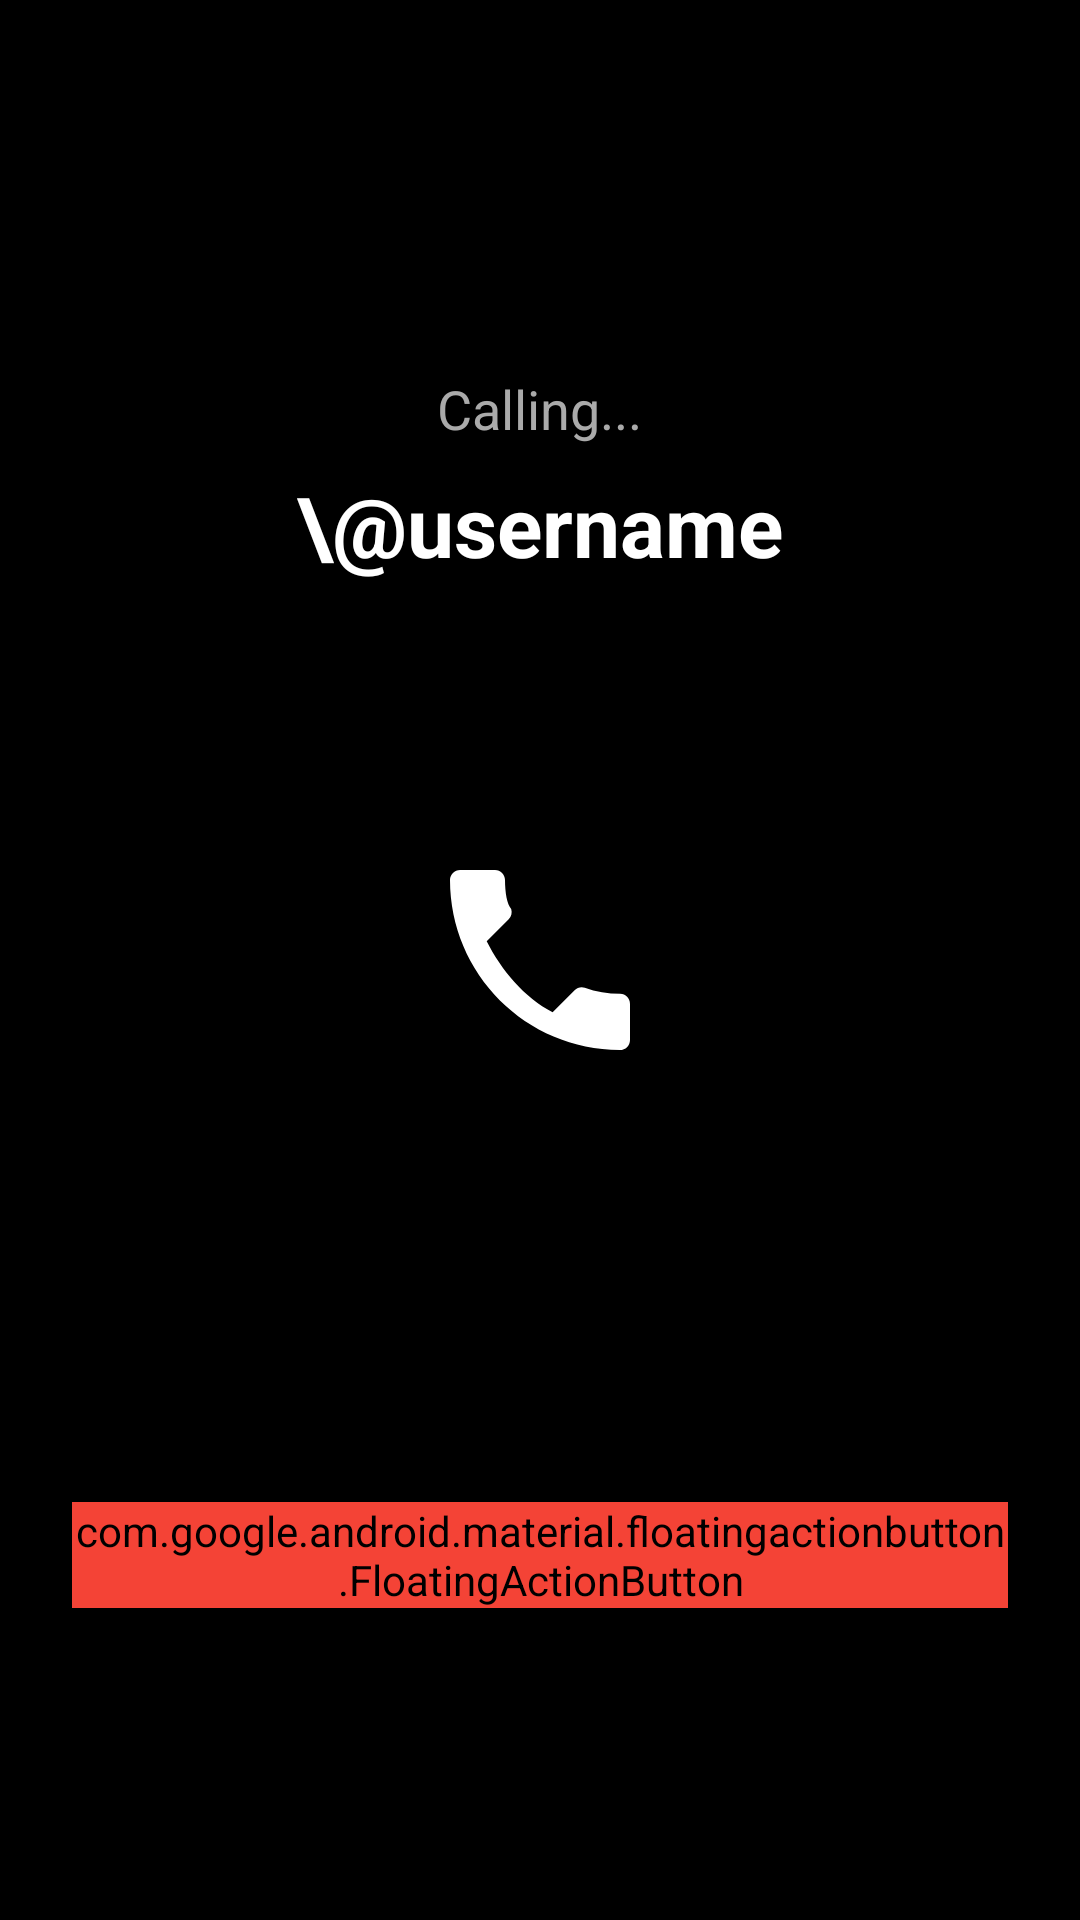

Screen size 1080px x 1920px. Icon name, then its box in pixels as (x1, y1, x2, y2):
call: (450, 870, 630, 1050)
